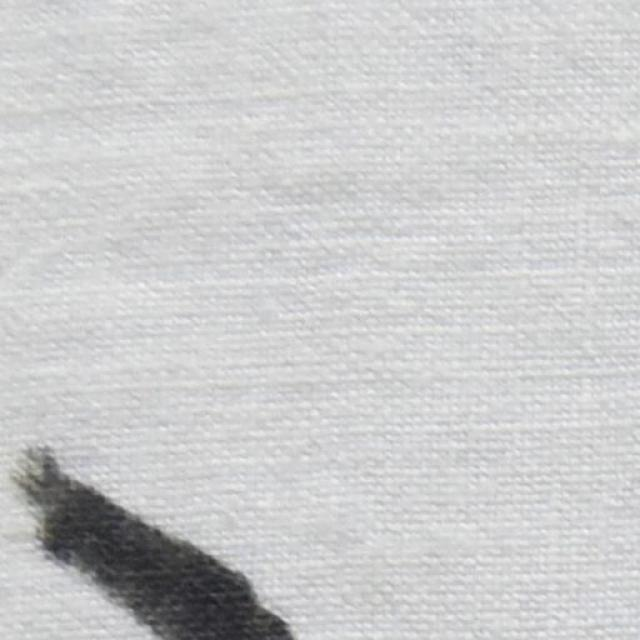Stain: (12, 449, 294, 640)
